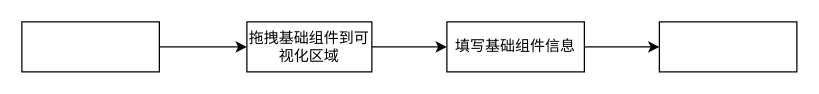
The diagram is 819 pixels wide and 94 high, and some of its shapes have lost their labels. The shapes that lost their labels are listed below. From the top down, each one's centre as x and y in pixels, then its label:
(x=90, y=46): 基础组件库
(x=727, y=46): 导出JSON文件
